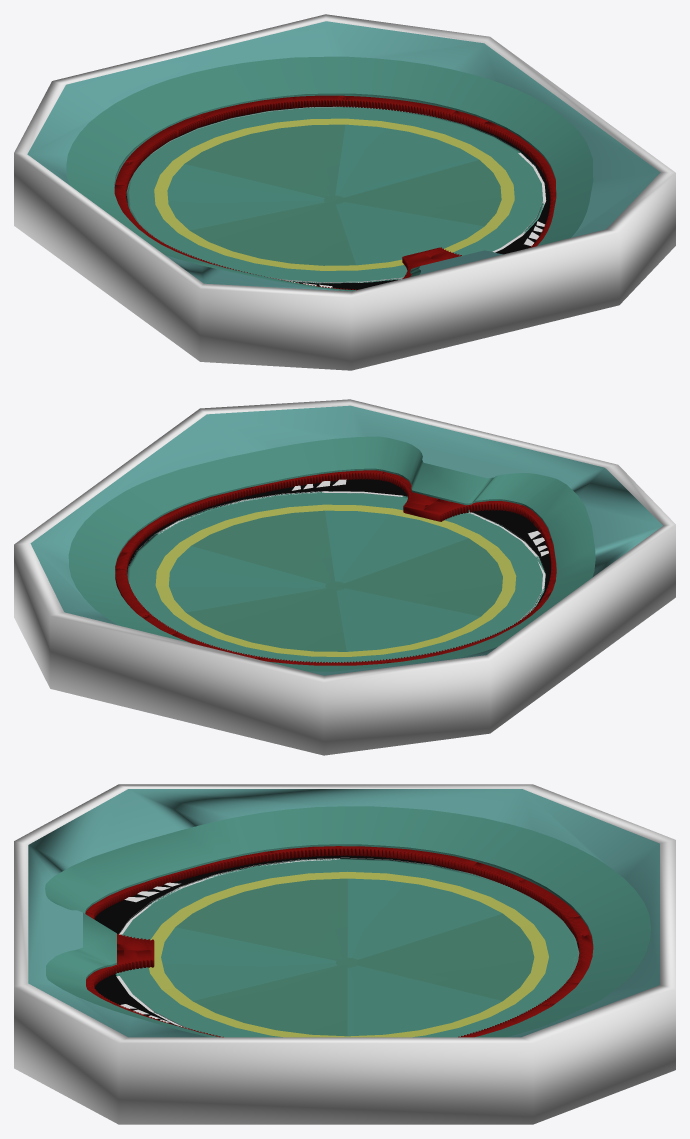
Rendered from animation.glb.
The picture shows the model from 3 angles, top to bottom: view 1: azimuth 30°, elevation 25°; view 2: azimuth 150°, elevation 25°; view 3: azimuth 270°, elevation 25°; orthographic projection. The views are drawn at different scales.
Visible parts, largest first — view 1: Plane.001, Plane.002, Circle.007, Circle.003, Circle, riel (1), Circle.005, Circle.006, Circle.001; view 2: Plane.001, Plane.002, Circle.007, Circle.003, Circle, riel (1), Circle.005, Circle.006, Circle.001; view 3: Plane.001, Plane.002, Circle.007, Circle.003, Circle, riel (1), Circle.005, Circle.006, Circle.001.
Part boxes in pixels (left/top/right/bottom): Plane.001: left=14, top=14, right=675, bottom=370; Plane.002: left=27, top=21, right=660, bottom=291; Circle.007: left=184, top=124, right=501, bottom=265; Circle.003: left=167, top=124, right=484, bottom=265; Circle: left=114, top=93, right=556, bottom=283; riel (1): left=114, top=95, right=556, bottom=290; Circle.005: left=154, top=118, right=514, bottom=270; Circle.006: left=126, top=106, right=550, bottom=289; Circle.001: left=131, top=106, right=546, bottom=283; Plane.001: left=14, top=399, right=675, bottom=755; Plane.002: left=30, top=405, right=662, bottom=675; Circle.007: left=186, top=510, right=502, bottom=651; Circle.003: left=169, top=510, right=480, bottom=651; Circle: left=115, top=468, right=556, bottom=662; riel (1): left=115, top=470, right=556, bottom=665; Circle.005: left=155, top=504, right=516, bottom=656; Circle.006: left=127, top=478, right=550, bottom=605; Circle.001: left=128, top=491, right=545, bottom=622; Plane.001: left=14, top=784, right=675, bottom=1124; Plane.002: left=28, top=789, right=659, bottom=1037; Circle.007: left=175, top=878, right=534, bottom=1036; Circle.003: left=161, top=878, right=502, bottom=1036; Circle: left=85, top=844, right=593, bottom=1037; riel (1): left=85, top=846, right=593, bottom=1037; Circle.005: left=149, top=871, right=548, bottom=1037; Circle.006: left=94, top=855, right=578, bottom=1025; Circle.001: left=116, top=857, right=576, bottom=1030.
Size of the model in its own units: 85.19 by 12.47 by 92.02.
